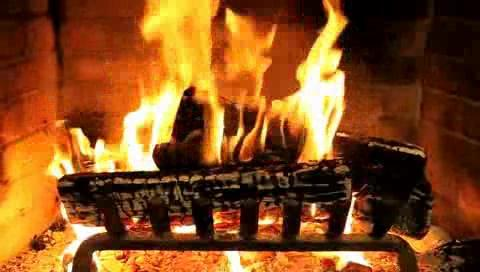fire: (105, 10, 356, 178)
